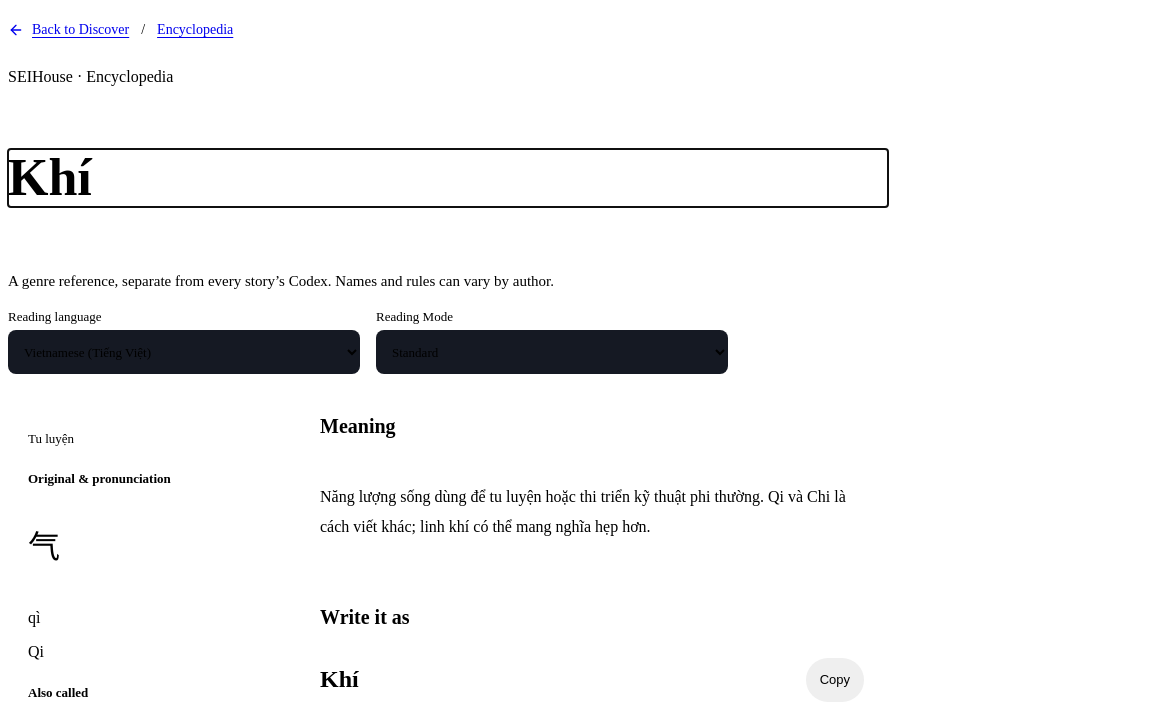
Test: copies how a term is written for a translation skill
Expected: the text "Khí" below "Write it as" is shown, top-left (320, 666), bottom-right (359, 692)
Step 1. Click the button with class "encyclopedia-copy" → (835, 680), box top-left (806, 658), bottom-right (864, 702)
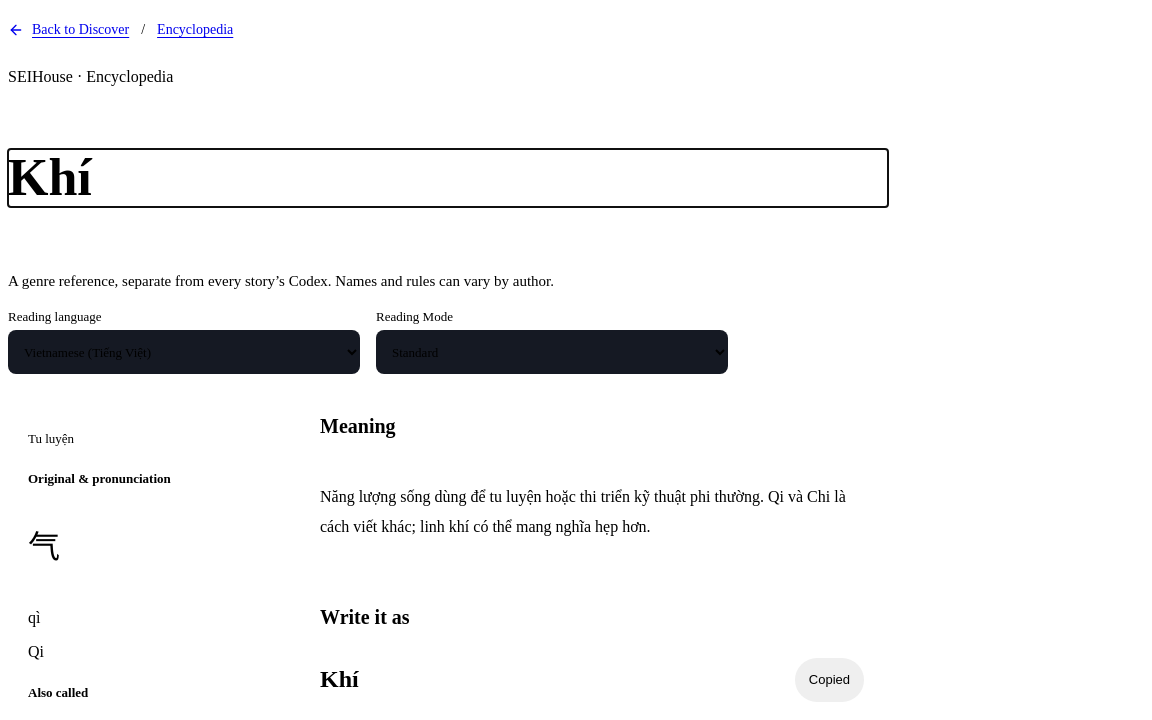
Now the button with class "encyclopedia-copy" reads "Copied", box top-left (795, 658), bottom-right (864, 702)
